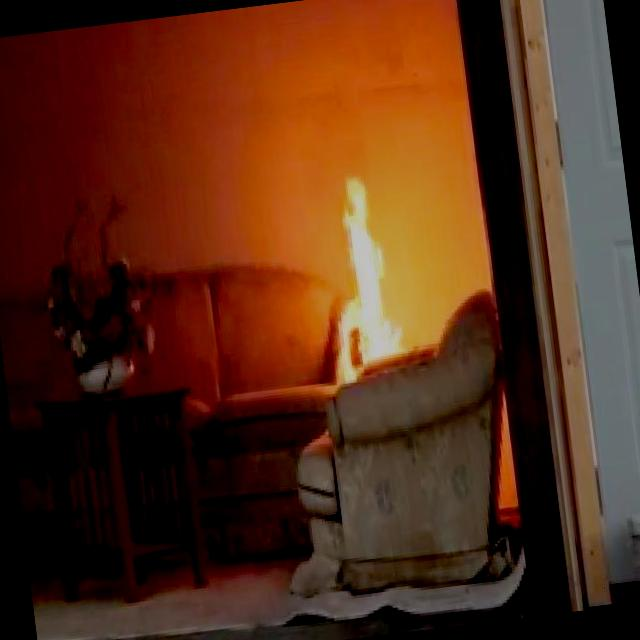fire: (306, 154, 413, 363)
